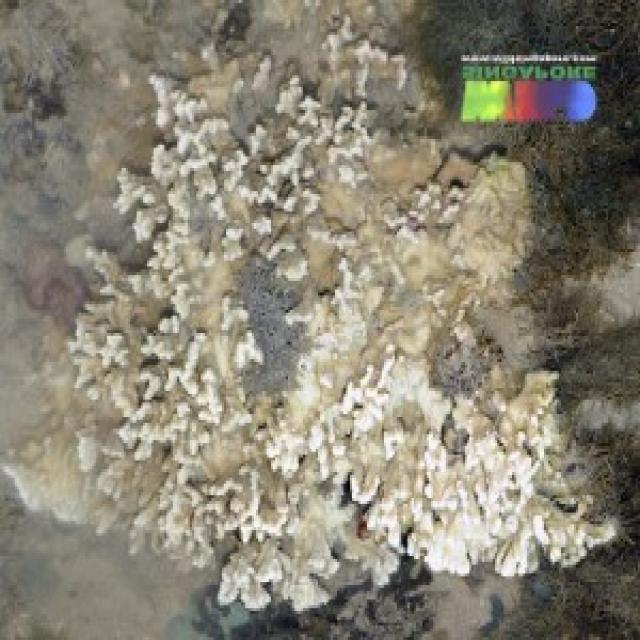Bleached: (4, 15, 613, 612)
Healthy: (391, 1, 640, 401)
